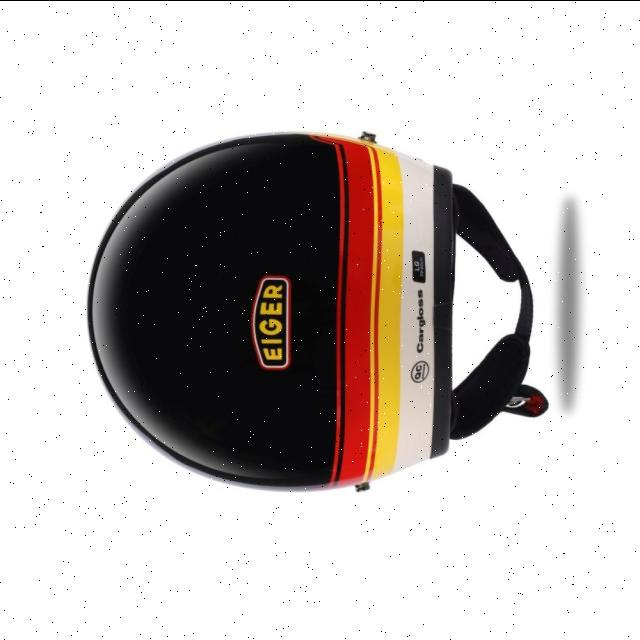Helmet: (88, 132, 548, 490)
